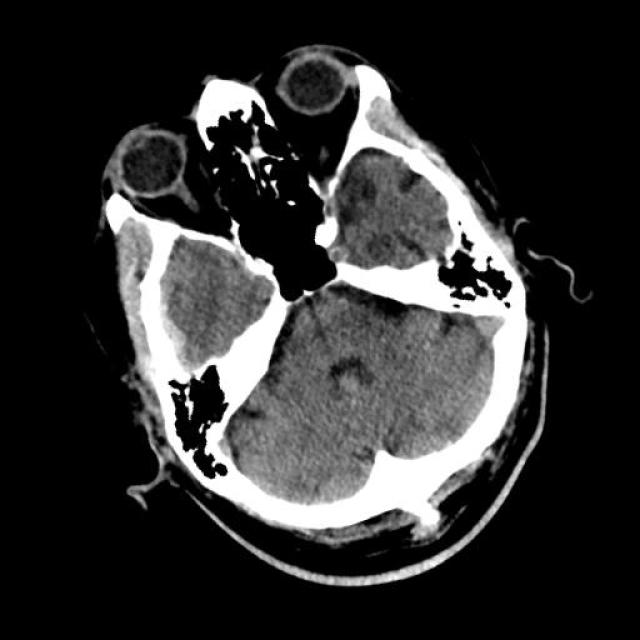Subdural: (103, 247, 234, 398)
